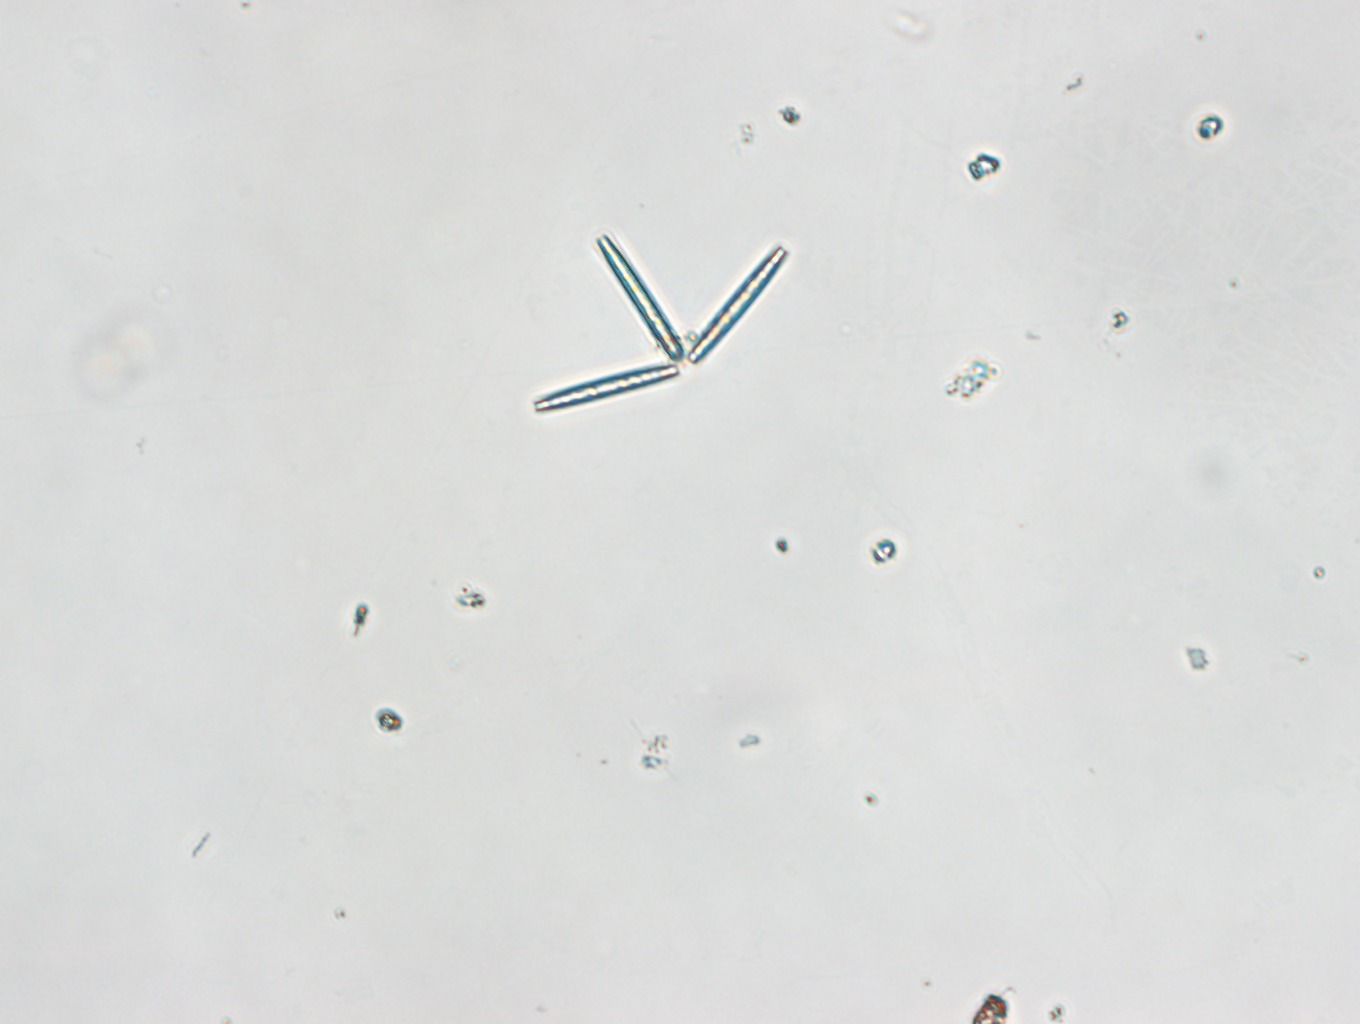thalassionema frauenfeldii: (535, 231, 788, 416)
